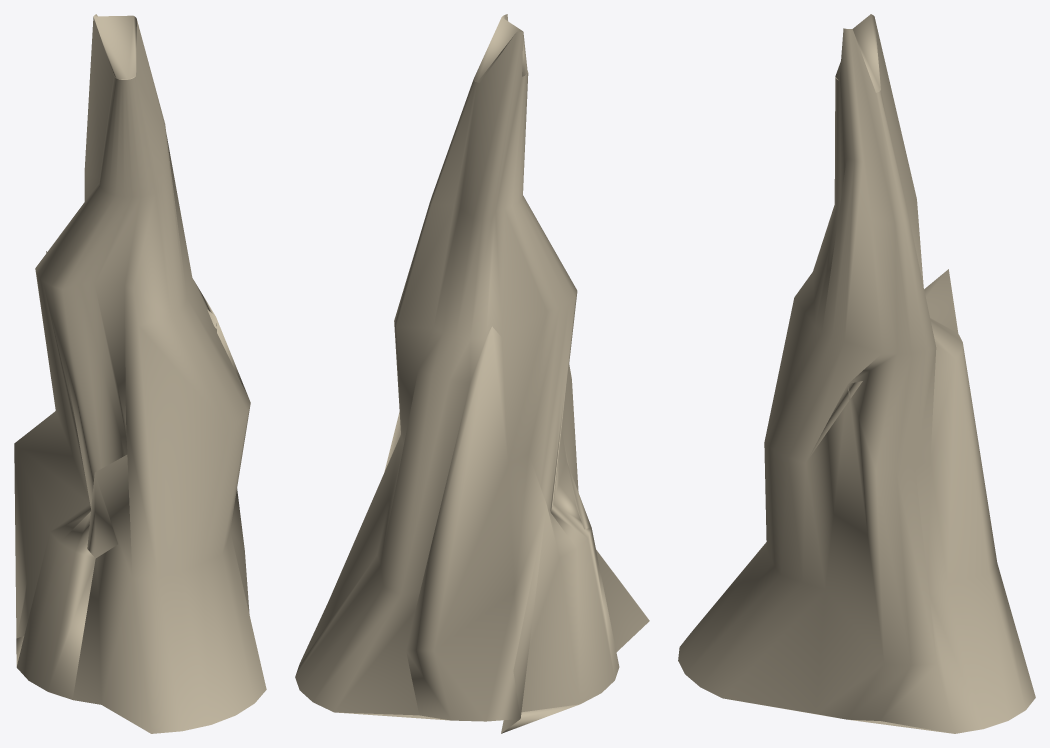
Rendered from айсберг_2.FBX.
3 views of the same model, side by side, from view 1: azimuth 30°, elevation 25°; view 2: azimuth 150°, elevation 25°; view 3: azimuth 270°, elevation 25° (orthographic).
Parts seen in each view (by area): view 1: Cone005; view 2: Cone005; view 3: Cone005.
Part boxes in pixels (box(x1,y1,x2,y2)): Cone005: box(14, 14, 266, 733); Cone005: box(295, 14, 649, 733); Cone005: box(678, 14, 1035, 733).
Bounding box in the file's own units: 74.73 × 188 × 93.3.
